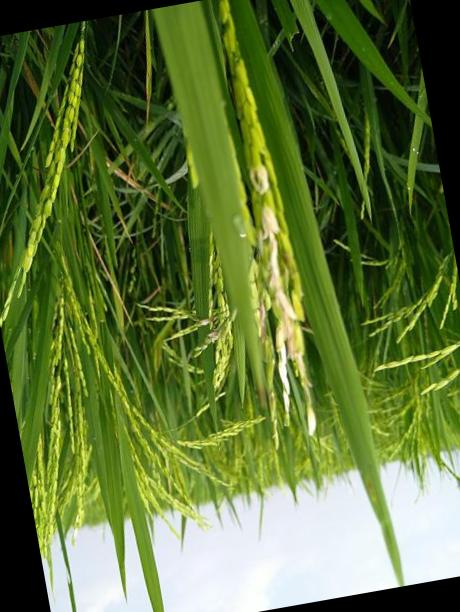Panicle Blight: (247, 159, 317, 435), (199, 315, 221, 344)
